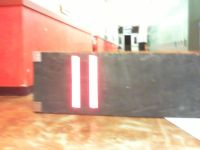switch: (88, 54, 99, 109), (71, 55, 81, 108)
